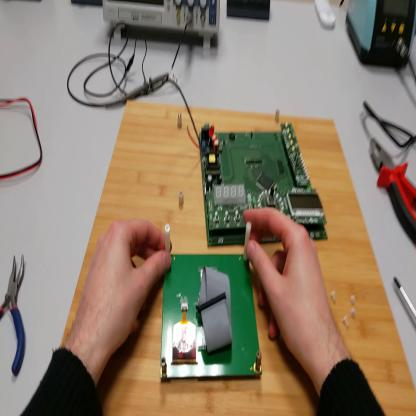hand: (75, 215, 180, 362), (245, 203, 332, 370)
low voltage board: (167, 79, 330, 243)
oscilloscope: (103, 1, 223, 54)
oscilloscope probe tip: (104, 70, 170, 111)
pliers: (369, 141, 416, 245), (2, 252, 31, 377), (125, 56, 136, 78)
screwdriver-: (394, 278, 415, 315)
socket: (72, 2, 102, 10)
welder station: (345, 1, 416, 72)
working area: (64, 102, 416, 415)
